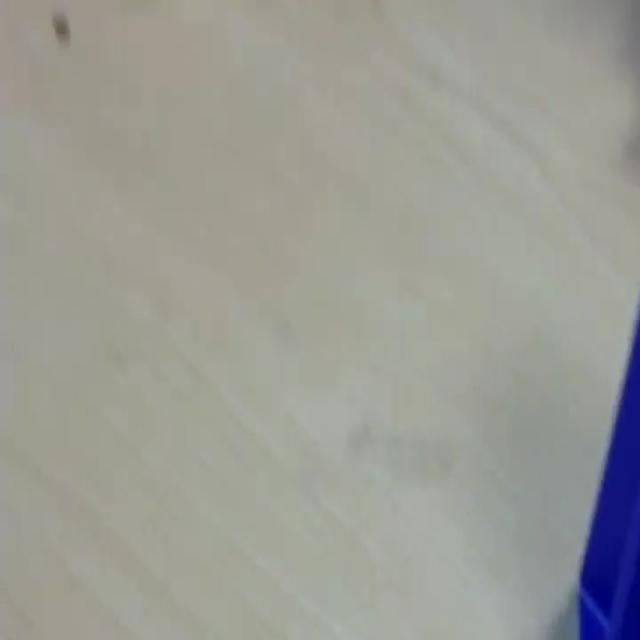blue_block: (576, 292, 639, 636)
